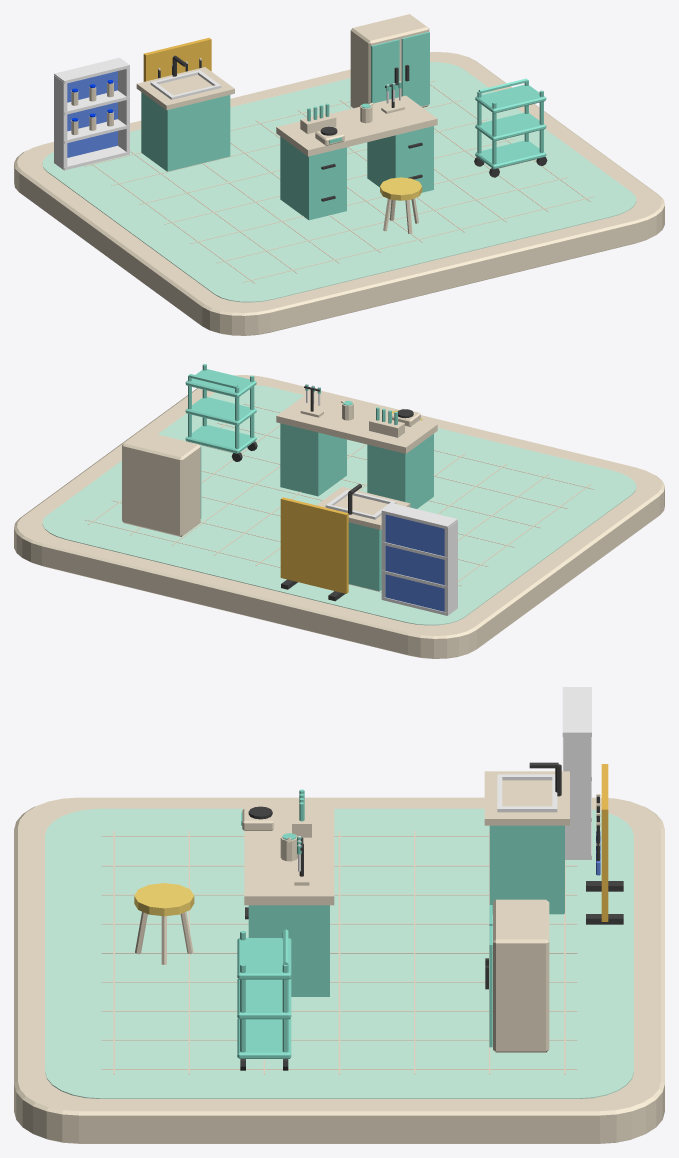
3 renders of one model, top to bottom at view 1: azimuth 30°, elevation 25°; view 2: azimuth 150°, elevation 25°; view 3: azimuth 270°, elevation 25°, orthographic. The views are drawn at different scales.
Parts seen in each view (by area): view 1: COM-02 Floor Surface, COM-01 Rounded Base Direct, Cabinet, Storage module, Worktop, Storage module.001, Equipment case, Cabinet back, Counter, Door.001, Panel, Door (+12 smaller); view 2: COM-02 Floor Surface, COM-01 Rounded Base Direct, Equipment case, Panel, Cabinet back, Worktop, Storage module.001, Storage module, Cabinet, Counter, Clean supply cabinet side, Tray.001 (+4 smaller); view 3: COM-02 Floor Surface, COM-01 Rounded Base Direct, Equipment case, Worktop, Cabinet, Storage module.001, Counter, Clean supply cabinet side.001, Tray.002, Tray.001, Tray, Seat (+5 smaller).
Boxes of the visible parts, x1=… form: COM-02 Floor Surface: x1=42, y1=62, x2=636, y2=302; COM-01 Rounded Base Direct: x1=14, y1=52, x2=664, y2=335; Cabinet: x1=141, y1=92, x2=230, y2=171; Storage module: x1=280, y1=136, x2=346, y2=220; Worktop: x1=276, y1=95, x2=437, y2=156; Storage module.001: x1=367, y1=126, x2=433, y2=192; Equipment case: x1=350, y1=14, x2=429, y2=108; Cabinet back: x1=67, y1=71, x2=117, y2=157; Counter: x1=136, y1=67, x2=234, y2=110; Door.001: x1=401, y1=32, x2=429, y2=106; Panel: x1=143, y1=37, x2=211, y2=81; Door: x1=371, y1=39, x2=399, y2=103; COM-02 Floor Surface: x1=42, y1=385, x2=636, y2=625; COM-01 Rounded Base Direct: x1=14, y1=375, x2=664, y2=658; Equipment case: x1=122, y1=430, x2=200, y2=536; Panel: x1=280, y1=497, x2=348, y2=593; Cabinet back: x1=385, y1=514, x2=444, y2=611; Worktop: x1=276, y1=393, x2=437, y2=453; Storage module.001: x1=280, y1=423, x2=346, y2=496; Storage module: x1=367, y1=434, x2=433, y2=508; Cabinet: x1=348, y1=522, x2=381, y2=591; Counter: x1=316, y1=486, x2=410, y2=529; Clean supply cabinet side: x1=444, y1=520, x2=457, y2=614; Tray.001: x1=185, y1=397, x2=256, y2=425; COM-02 Floor Surface: x1=45, y1=808, x2=633, y2=1098; COM-01 Rounded Base Direct: x1=14, y1=797, x2=664, y2=1143; Equipment case: x1=493, y1=899, x2=549, y2=1052; Worktop: x1=244, y1=806, x2=334, y2=905; Cabinet: x1=489, y1=825, x2=564, y2=914; Storage module.001: x1=248, y1=905, x2=329, y2=996; Counter: x1=484, y1=771, x2=569, y2=825; Clean supply cabinet side.001: x1=563, y1=735, x2=591, y2=859; Tray.002: x1=237, y1=938, x2=291, y2=979; Tray.001: x1=237, y1=978, x2=291, y2=1019; Tray: x1=237, y1=1018, x2=291, y2=1058; Seat: x1=134, y1=883, x2=194, y2=916.
Bounding box in the file's own units: 6 × 1.54 × 5.2.
Materials: 1 (1 with a texture image).
